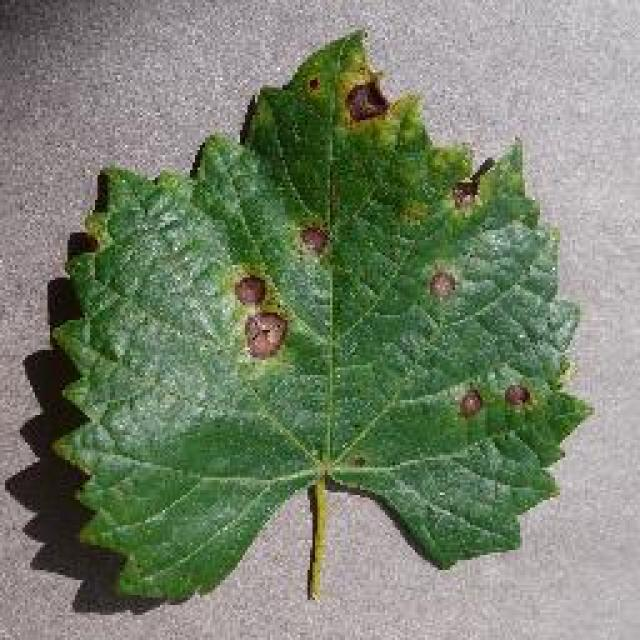Grape___Black_rot: (39, 27, 597, 606)
